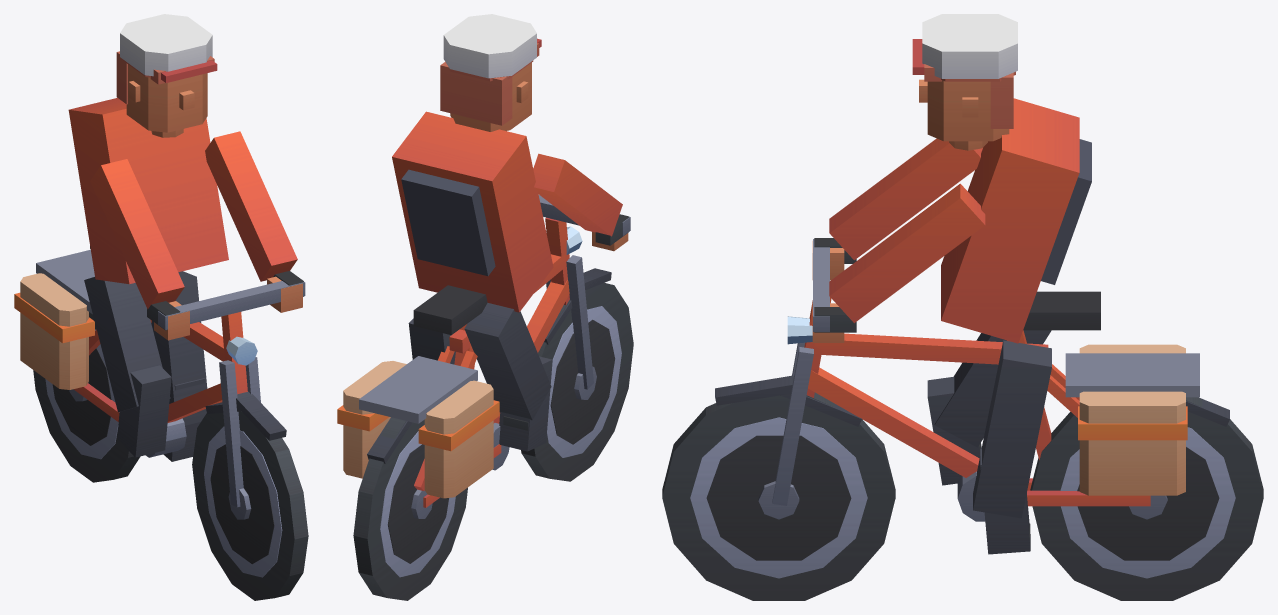
File: cyclist_commuter.glb
The picture shows the model from 3 angles, left to right: view 1: azimuth 30°, elevation 25°; view 2: azimuth 150°, elevation 25°; view 3: azimuth 270°, elevation 25°; orthographic projection. The views are drawn at different scales.
Visible parts, largest first — view 1: cyclist_commuter; view 2: cyclist_commuter; view 3: cyclist_commuter.
Part boxes in pixels (<box>): cyclist_commuter: <box>14,14,308,600</box>; cyclist_commuter: <box>337,14,633,600</box>; cyclist_commuter: <box>662,14,1263,600</box>.
Bounding box in the file's own units: 0.52 × 1.76 × 1.7.
Materials: 1 (1 with a texture image).
